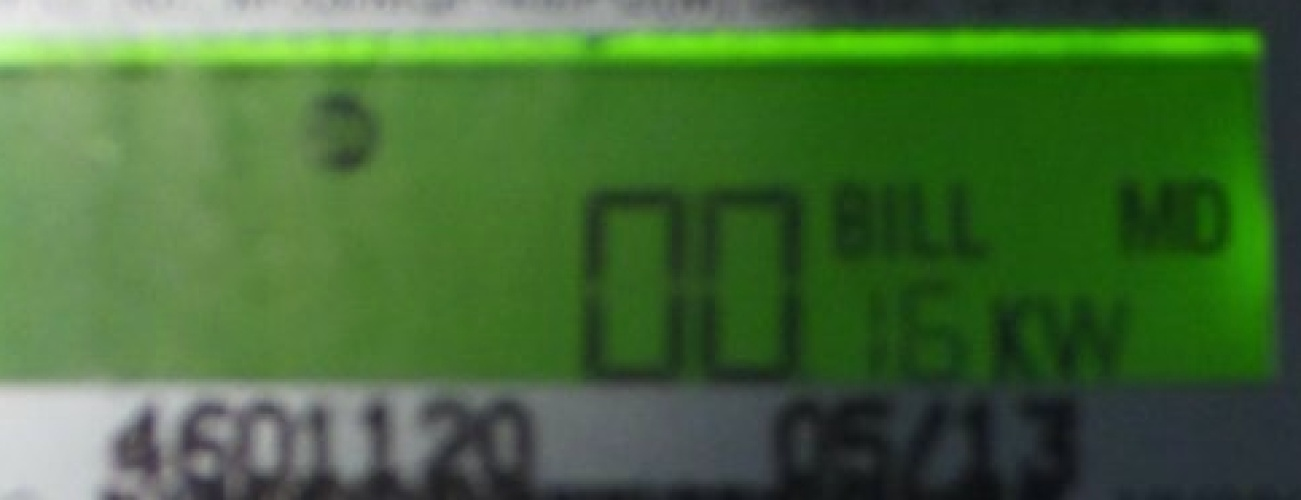zero: (691, 176, 819, 397), (568, 180, 702, 389)
